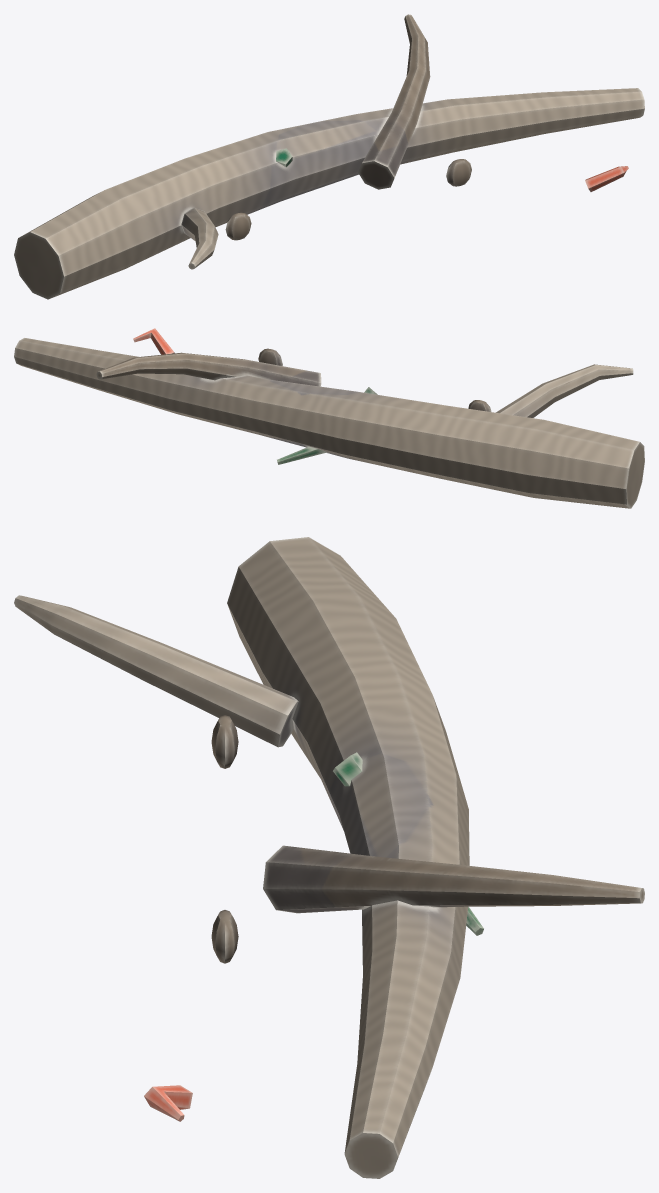
The model's file is driftwood.glb.
The picture shows the model from 3 angles, top to bottom: view 1: azimuth 30°, elevation 25°; view 2: azimuth 150°, elevation 25°; view 3: azimuth 270°, elevation 25°; orthographic projection. The views are drawn at different scales.
Visible parts, largest first — view 1: SM_Driftwood; view 2: SM_Driftwood; view 3: SM_Driftwood.
Boxes of the visible parts, bbox=[...] form: SM_Driftwood: bbox=[14, 14, 644, 299]; SM_Driftwood: bbox=[14, 328, 644, 508]; SM_Driftwood: bbox=[14, 537, 644, 1178].
Size of the model in its own units: 2.44 by 0.3591 by 1.16.
1 material, 1 textured.
